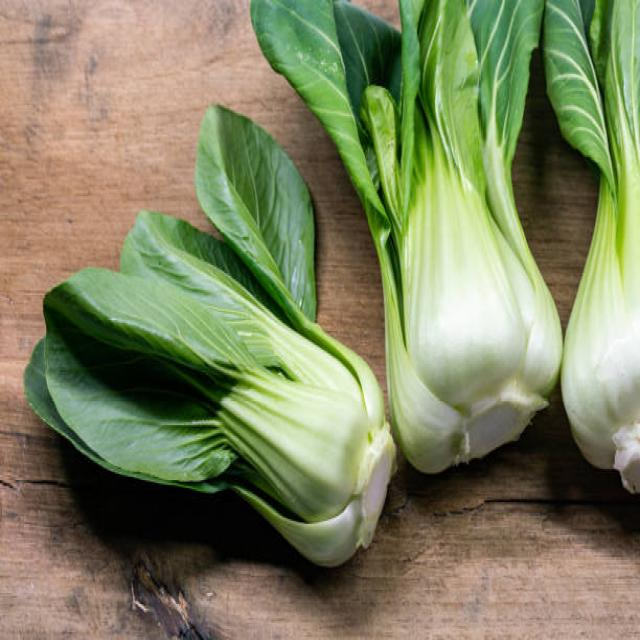Bok Choy: (67, 157, 354, 573), (366, 14, 537, 450), (563, 0, 640, 484)
